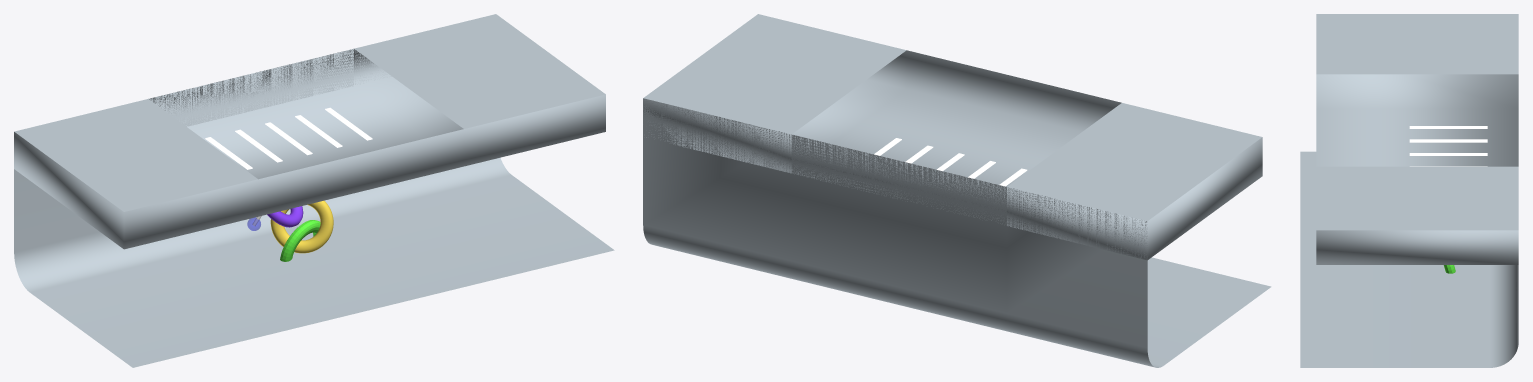
3 renders of one model, left to right at view 1: azimuth 30°, elevation 25°; view 2: azimuth 150°, elevation 25°; view 3: azimuth 270°, elevation 25°, orthographic. The views are drawn at different scales.
Parts seen in each view (by area): view 1: Plane, Torus, Torus.002; view 2: Plane; view 3: Plane, Cube.001, Cube, Cube.002.
Part boxes in pixels (bbox=[...]): Plane: bbox=[14, 14, 614, 367]; Torus: bbox=[270, 200, 333, 253]; Torus.002: bbox=[280, 220, 320, 261]; Plane: bbox=[643, 14, 1271, 367]; Plane: bbox=[1300, 14, 1518, 367]; Cube.001: bbox=[1409, 139, 1487, 142]; Cube: bbox=[1409, 126, 1487, 128]; Cube.002: bbox=[1409, 153, 1487, 155].
Size of the model in its own units: 80.22 by 27.63 by 34.24.
